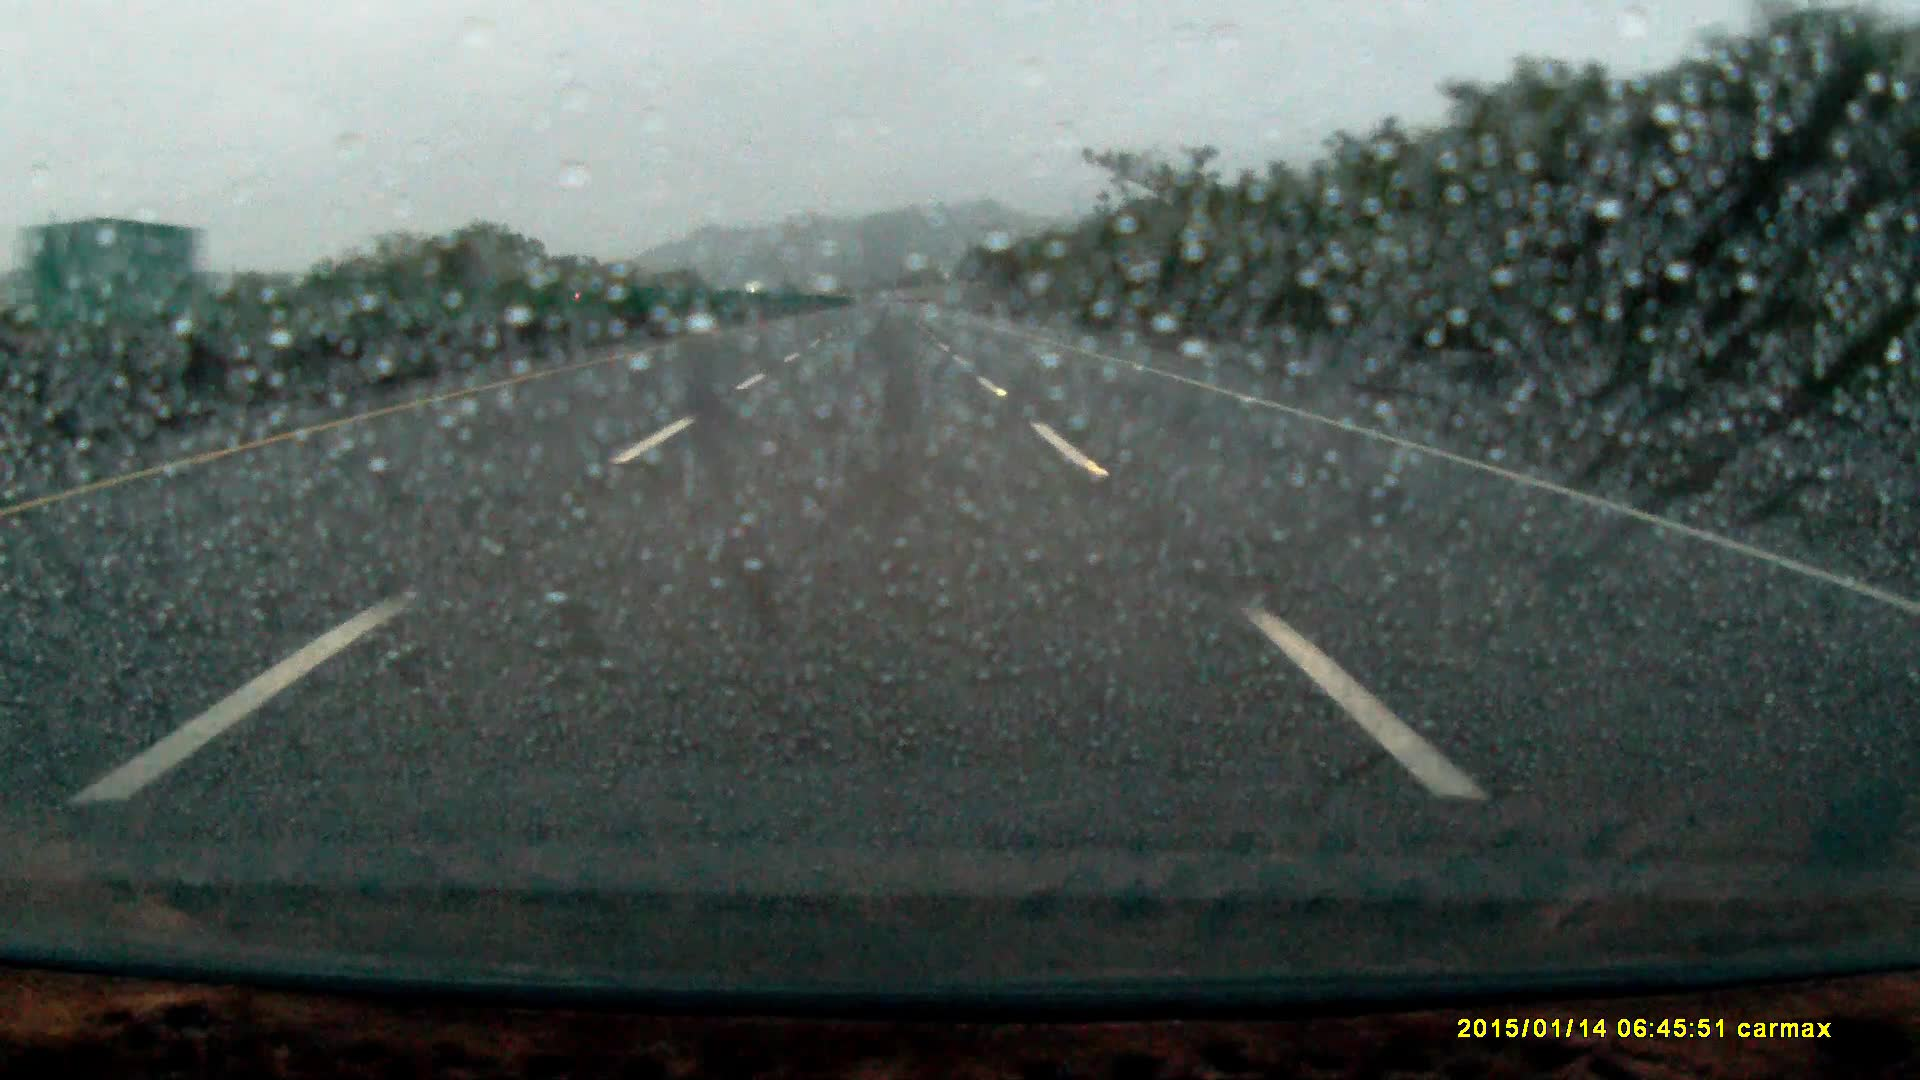vehicle: (1, 223, 218, 377)
